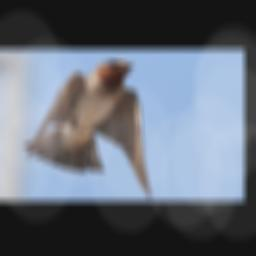Swallow: (24, 59, 152, 200)
